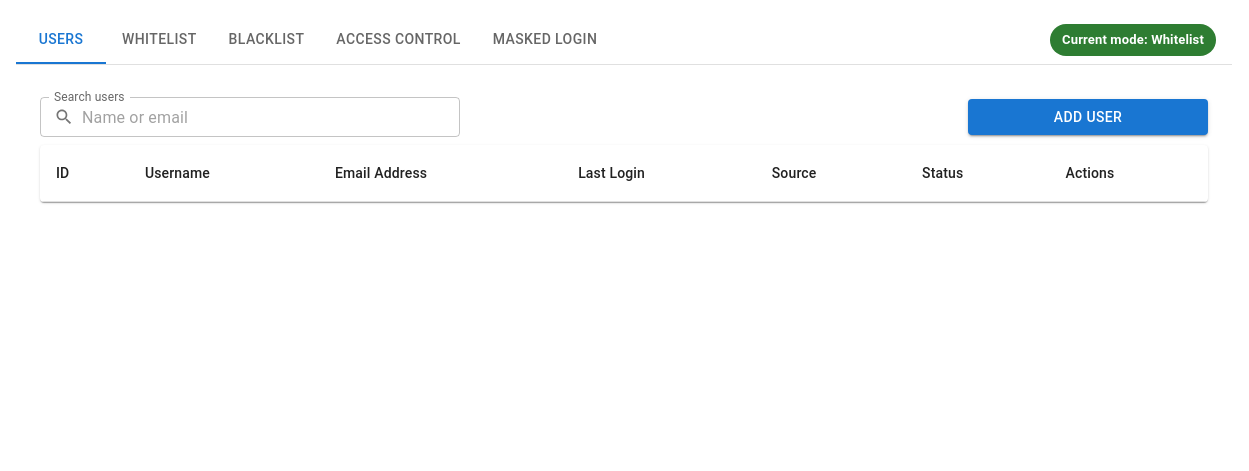
Test case: AdminPage › Rendering › renders blacklist on Blacklist tab
Click the tab "Blacklist".
click(266, 40)  # box [212,16,320,64]
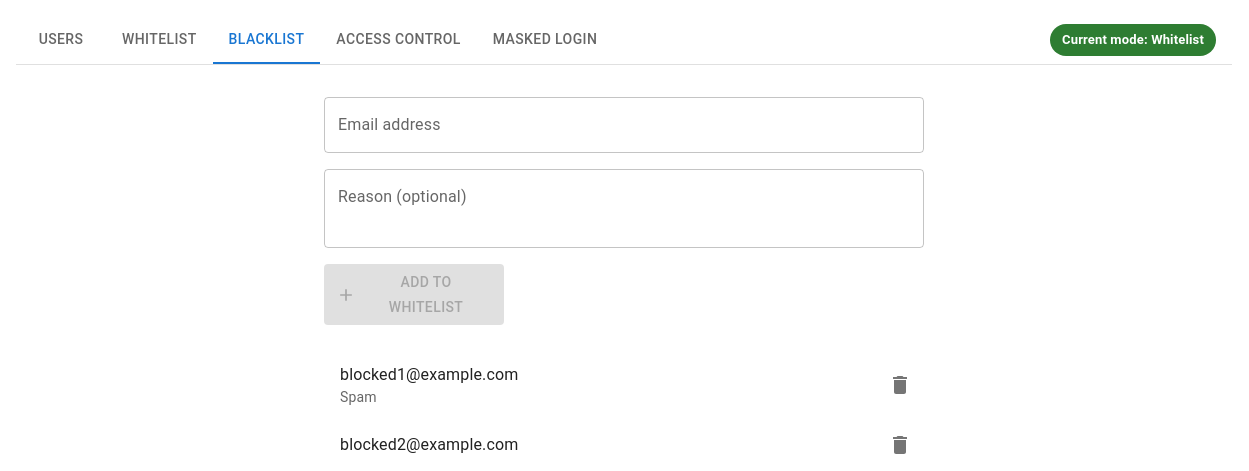
Now the text "blocked1@example.com" is shown, box [340,365,518,384]
Now the text "blocked2@example.com" is shown, box [340,435,518,454]
Now the text "Spam" is shown, box [340,389,377,405]
